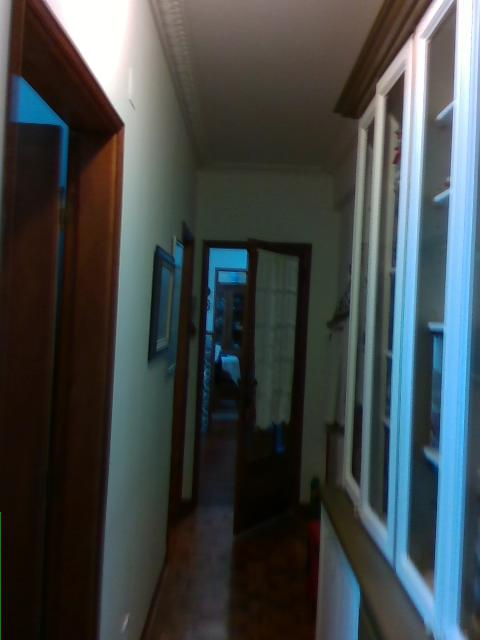semi_door: (189, 237, 311, 540)
